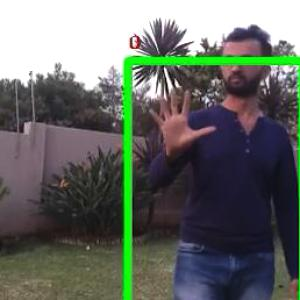follow_hand: (144, 82, 218, 152)
